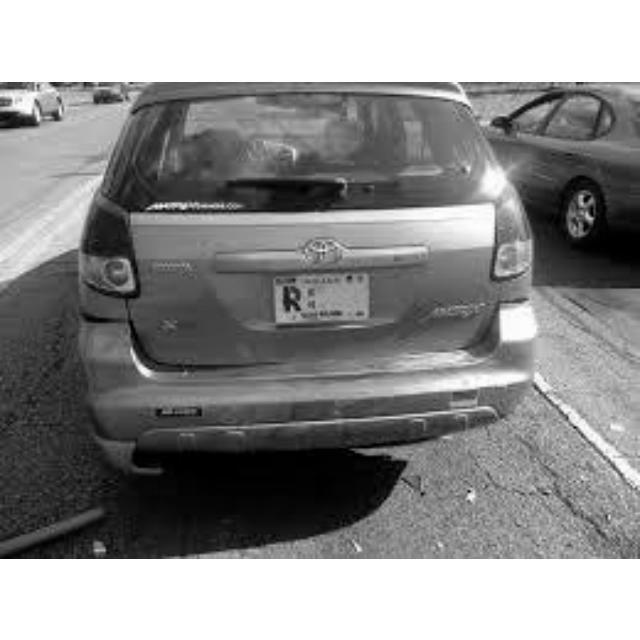rear-bumper-dent: (97, 374, 510, 465)
